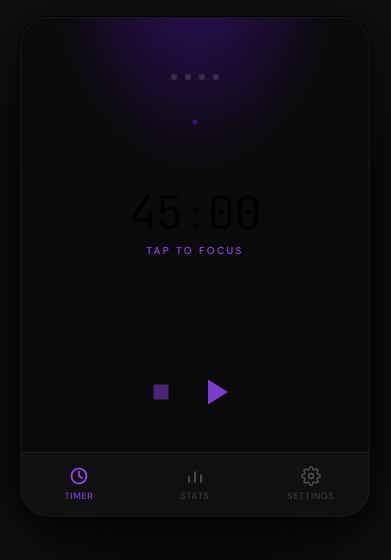
Test: stepper settings › Focus Duration stepper shows value from localStorage
Click the button "Settings": (311, 484) [253,453,369,516]
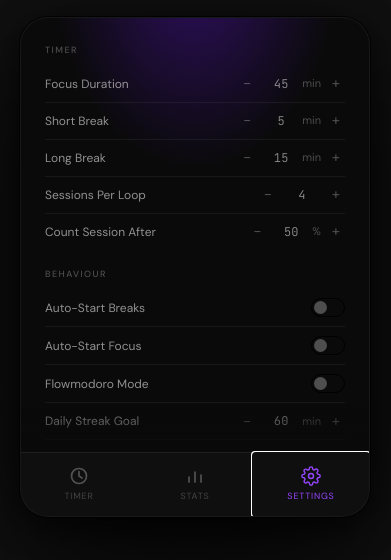
Check: the number field named "focus duration" holds "45", box [262,74,300,92]
